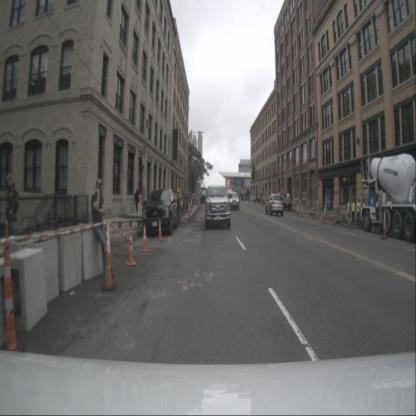cone: (3, 242, 24, 350), (101, 216, 117, 292), (127, 232, 136, 266), (380, 207, 388, 238), (141, 223, 149, 252), (157, 219, 164, 240), (187, 200, 192, 222), (322, 204, 326, 223), (311, 203, 315, 219), (189, 198, 193, 212), (300, 203, 304, 217), (325, 213, 329, 224), (296, 204, 300, 215)
